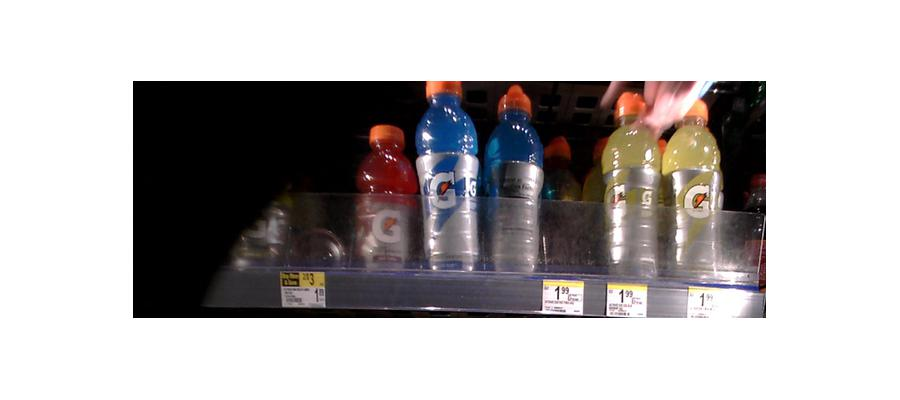bottle: (418, 78, 482, 274), (601, 90, 664, 282), (484, 87, 543, 273), (666, 102, 724, 279), (353, 120, 415, 274), (545, 130, 592, 273)
